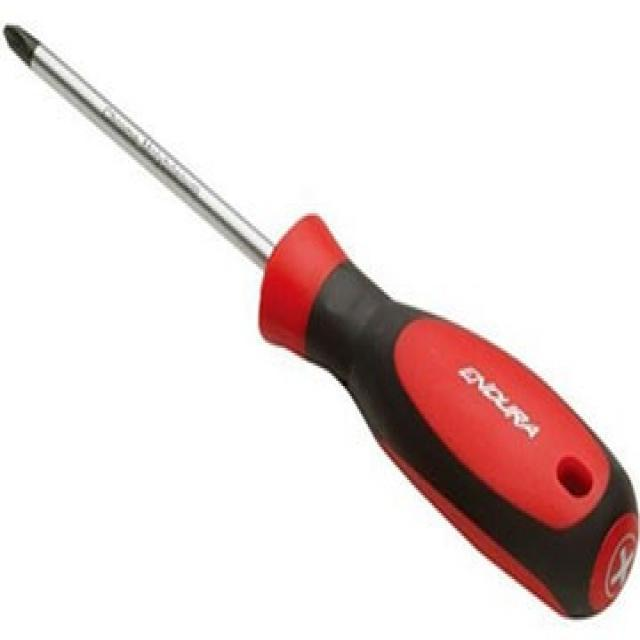screwdriver: (1, 24, 639, 621)
